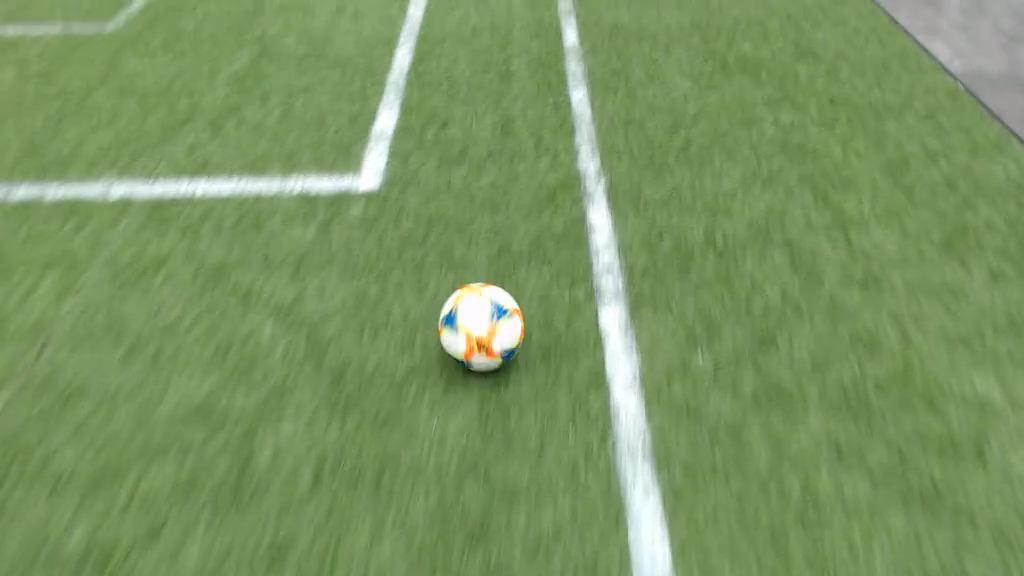ball: (438, 283, 525, 371)
